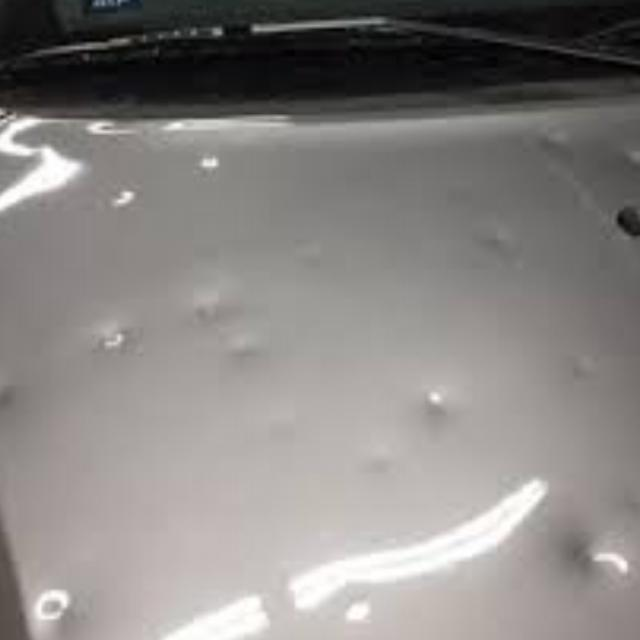dents: (548, 516, 625, 617), (449, 213, 543, 279), (527, 121, 583, 196), (29, 568, 86, 640), (255, 393, 311, 466), (96, 321, 162, 378), (352, 439, 411, 499), (284, 235, 344, 289), (221, 338, 290, 384), (563, 336, 605, 407), (181, 281, 241, 330), (92, 183, 166, 220), (422, 382, 464, 434), (1, 365, 32, 429), (194, 148, 234, 188)
